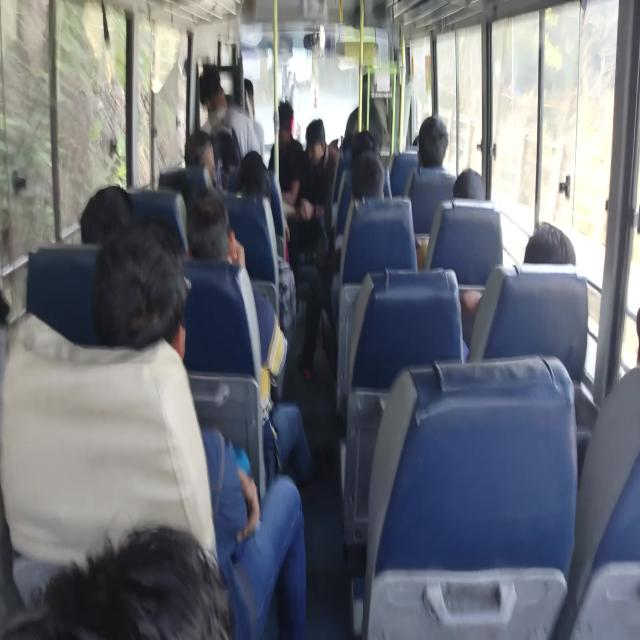person: (60, 516, 225, 640), (84, 246, 217, 390), (58, 187, 124, 250), (513, 215, 574, 282), (175, 188, 229, 259), (614, 292, 640, 398), (228, 164, 276, 220), (302, 120, 336, 181), (348, 152, 382, 211), (194, 78, 232, 130), (423, 111, 451, 176), (184, 130, 218, 182), (454, 172, 488, 223), (274, 102, 301, 151), (237, 136, 264, 181), (241, 78, 264, 119), (410, 121, 442, 150), (338, 141, 369, 162)
